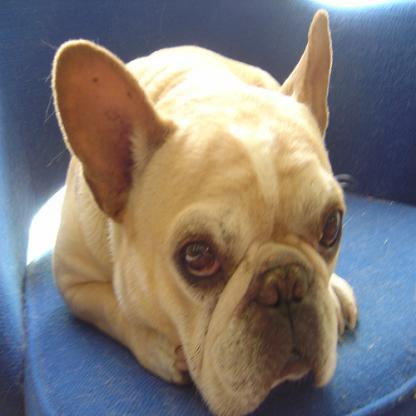dog: (52, 7, 360, 415)
